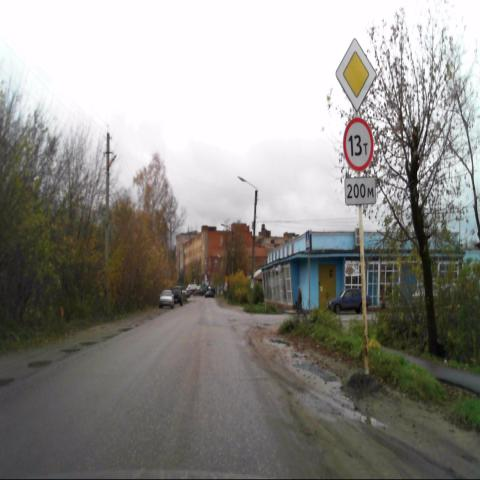3_11: (342, 117, 374, 172)
